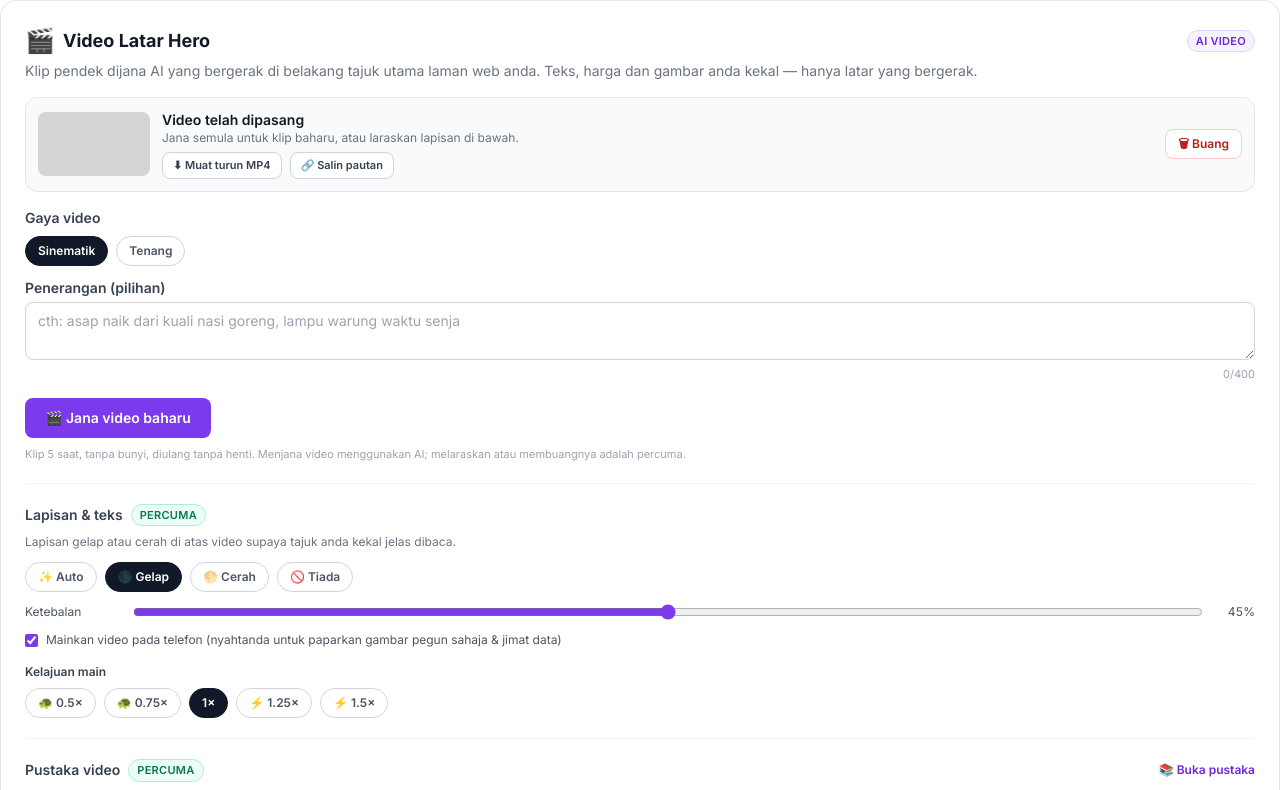
Scenario: HeroVideoPanel › removes the clip after confirmation
Click the button with test id "remove-hero-video". click: (1204, 144)
box: [1165,129,1242,159]
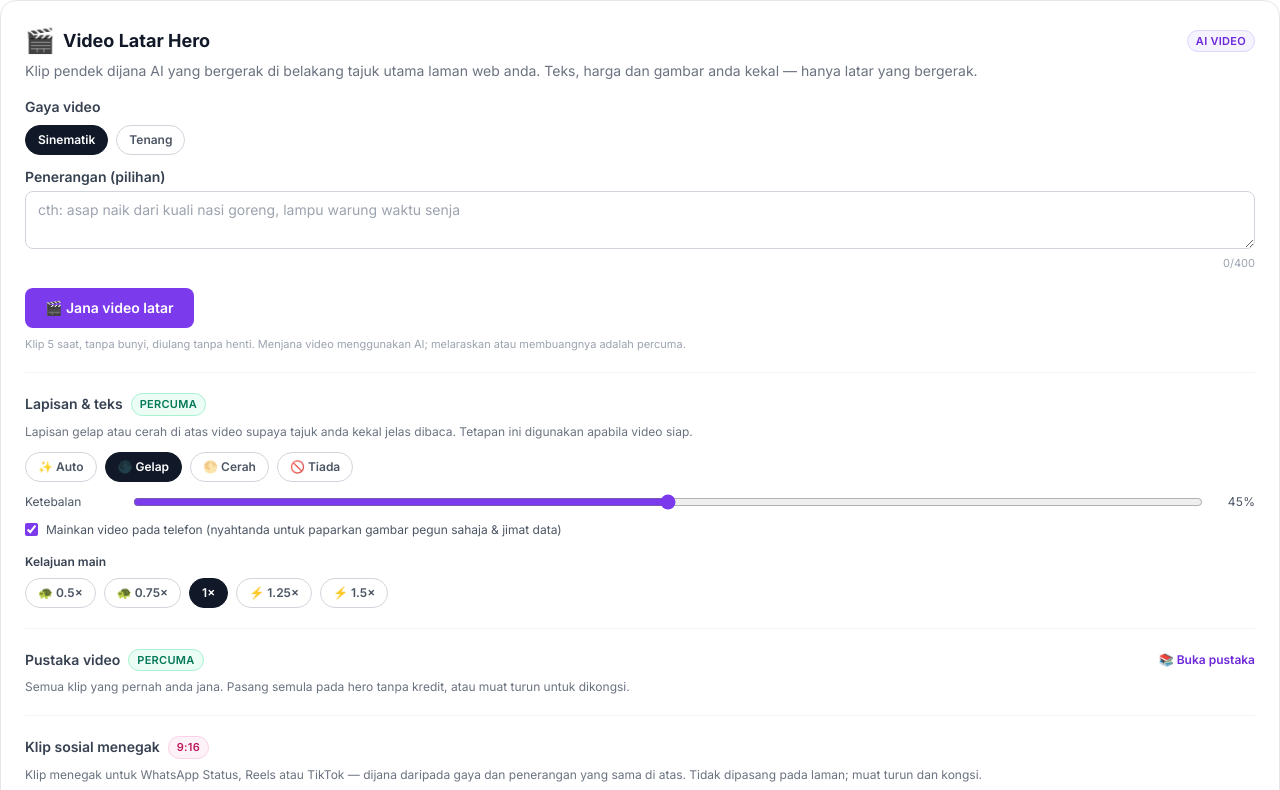
Check: the element with test id "hero-video-current" is gone
